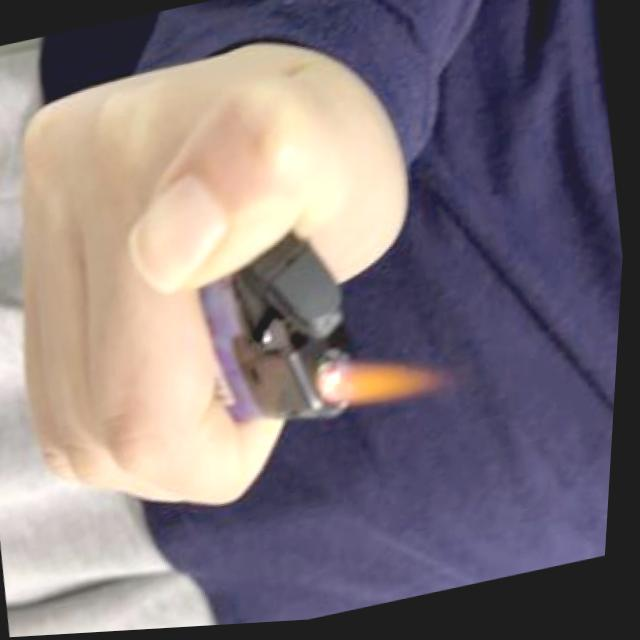fire: (319, 348, 462, 422)
